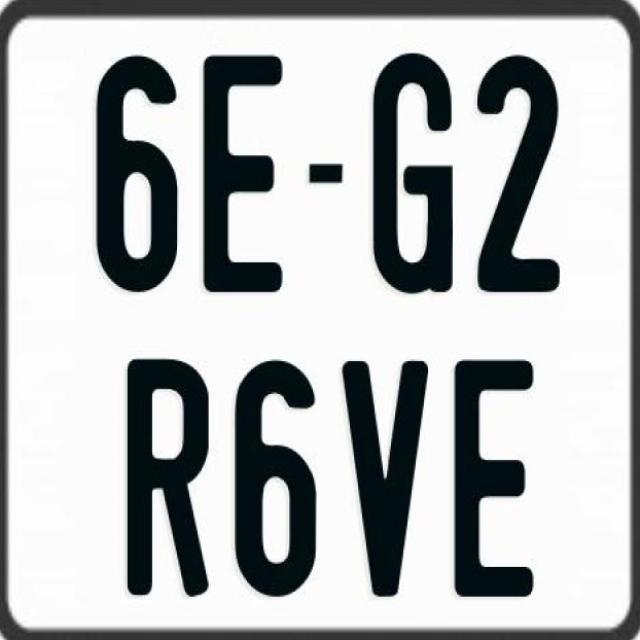license-plate: (12, 22, 640, 640)
